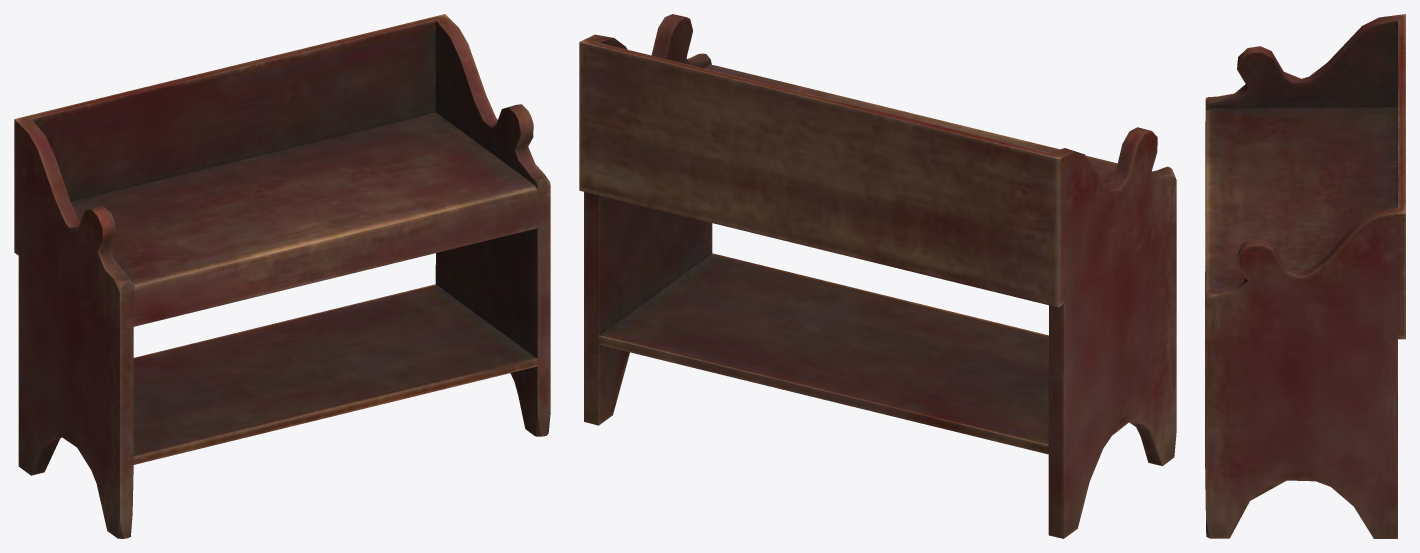
File: gallery_bench.glb
3 views of the same model, side by side, from view 1: azimuth 30°, elevation 25°; view 2: azimuth 150°, elevation 25°; view 3: azimuth 270°, elevation 25° (orthographic). The views are drawn at different scales.
Visible parts, largest first — view 1: painted_wooden_bench; view 2: painted_wooden_bench; view 3: painted_wooden_bench.
Boxes of the visible parts, x1,y1,x2,y2 form: painted_wooden_bench: (14,14,550,538); painted_wooden_bench: (579,14,1176,538); painted_wooden_bench: (1205,14,1405,538).
Size of the model in its own units: 1.16 by 0.8893 by 0.4965.
1 material, 1 textured.
